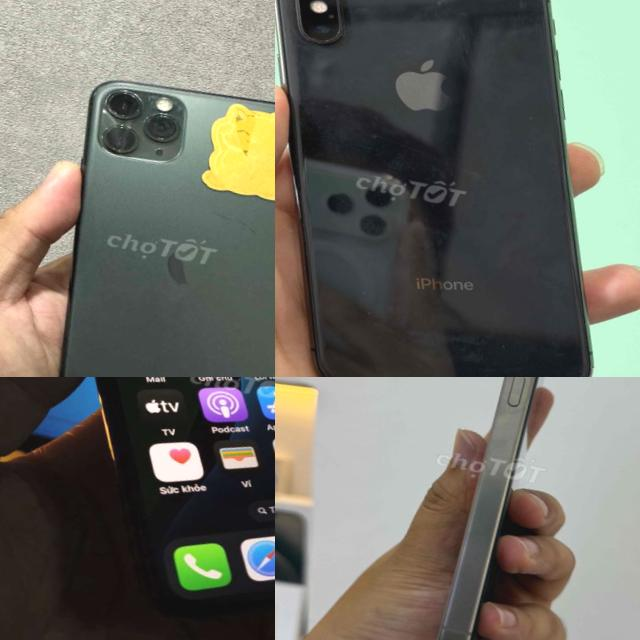gen_11: (18, 53, 275, 377), (0, 377, 275, 640)
gen_15: (426, 377, 578, 640)
gen_x_xs: (275, 0, 592, 377)
